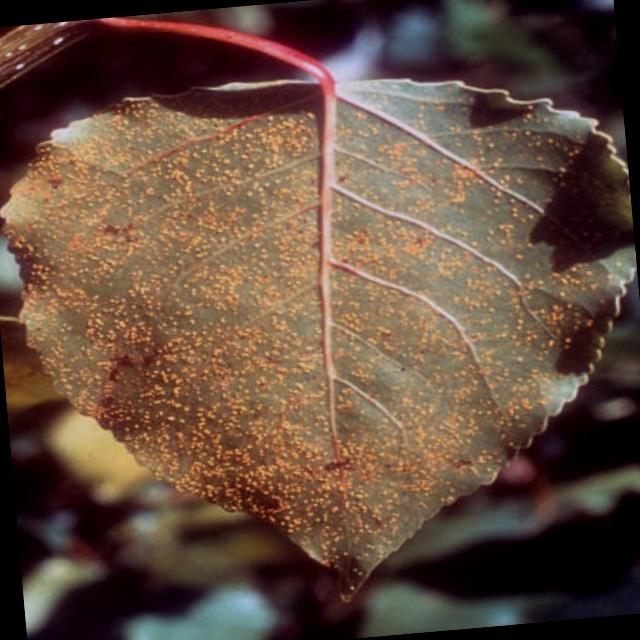leaf_rust: (2, 79, 635, 592)
